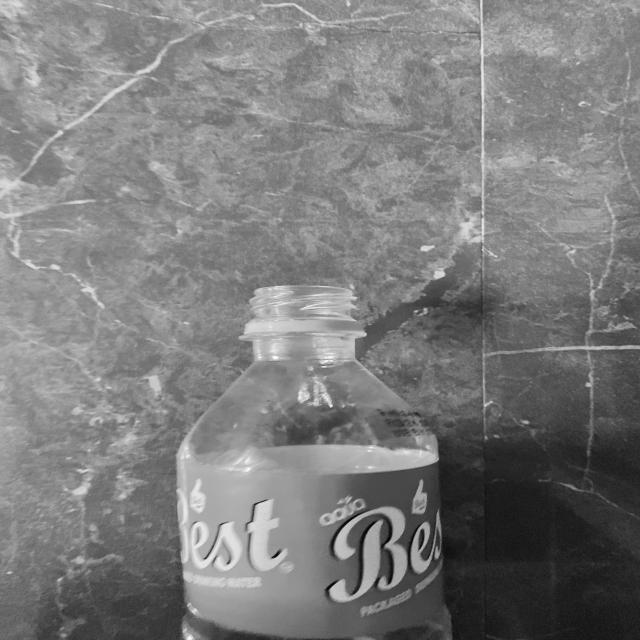open-cap: (243, 278, 363, 334)
